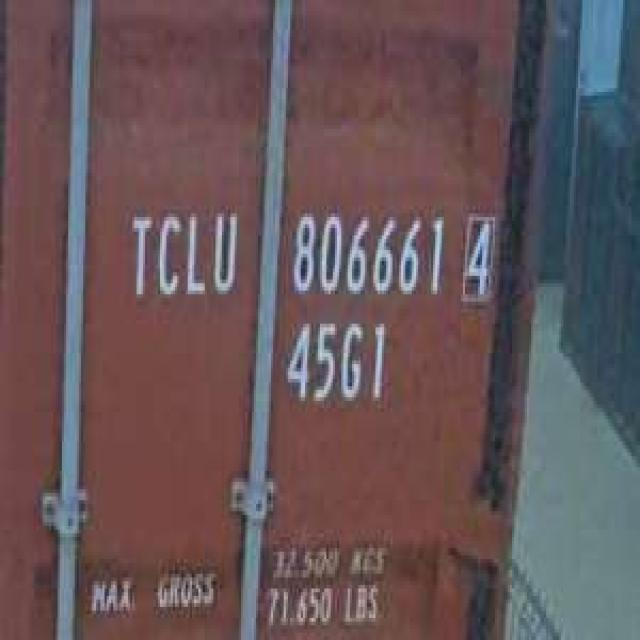dv: (457, 202, 497, 306)
owner: (124, 195, 241, 309)
serial: (284, 199, 446, 305)
size: (280, 309, 390, 419)
